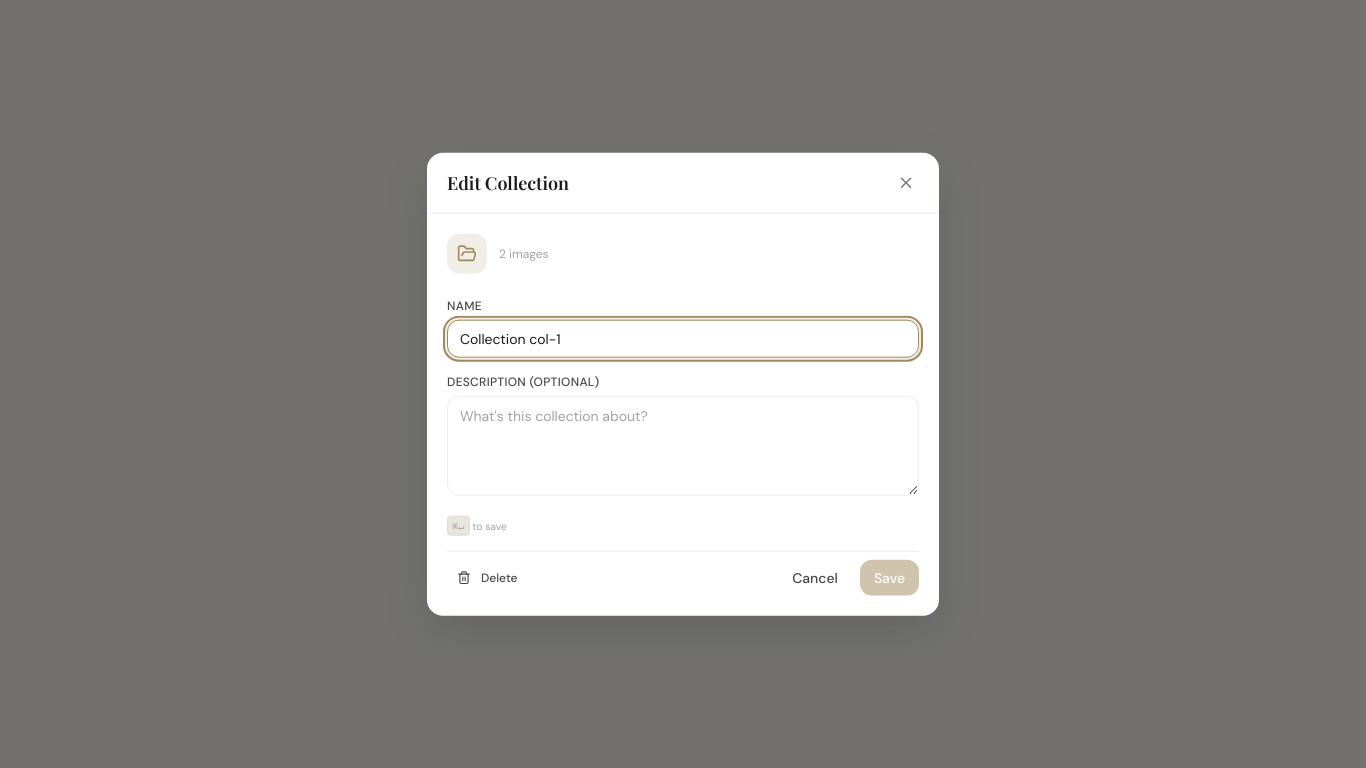
Test: CollectionEditModal › delete functionality › should show confirmation when Delete clicked
What coordinates should you click on to do the following:
click the button "Delete"
I would click on:
 (487, 577)
Its box is top-left (447, 563), bottom-right (528, 591).
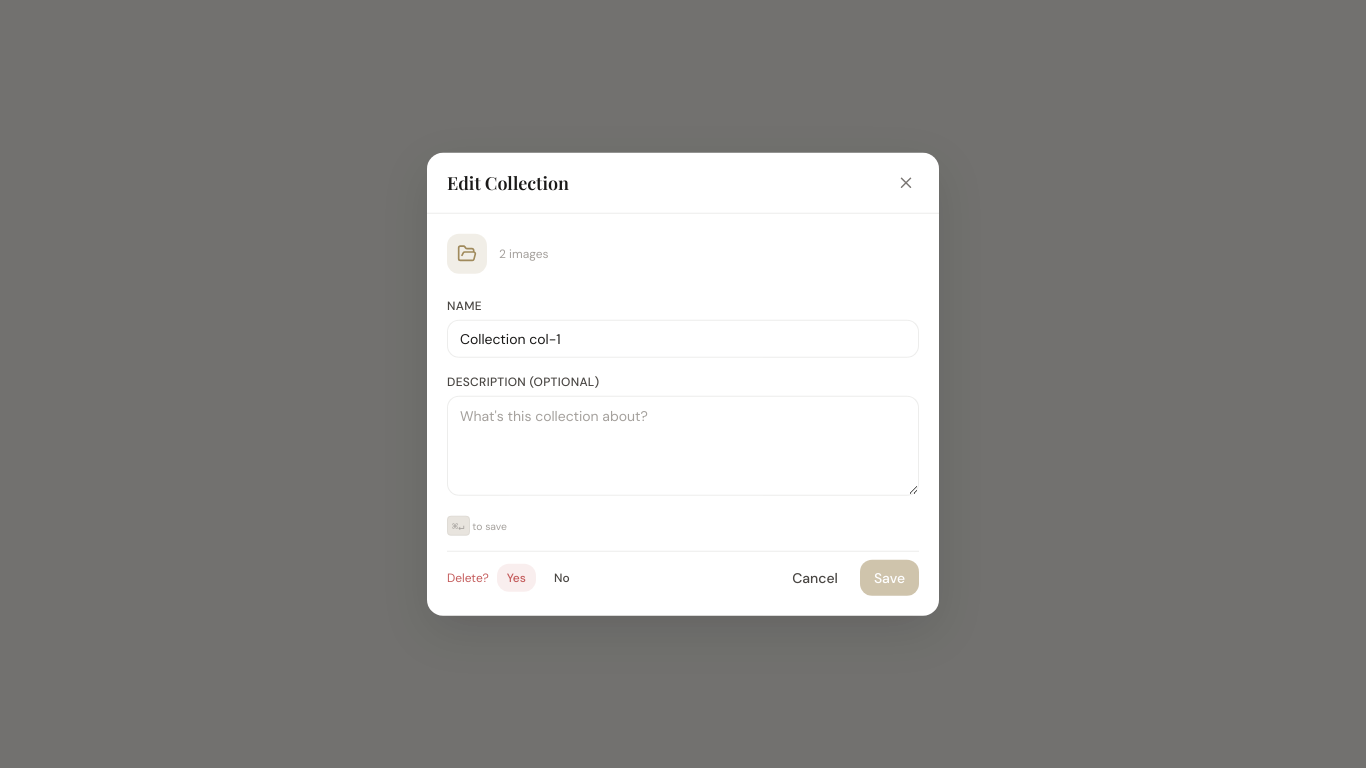
Expected: the text "Delete?" is shown, top-left (447, 569), bottom-right (489, 585)
Expected: the button "Yes" is shown, top-left (497, 563), bottom-right (536, 591)
Expected: the button "No" is shown, top-left (544, 563), bottom-right (580, 591)
